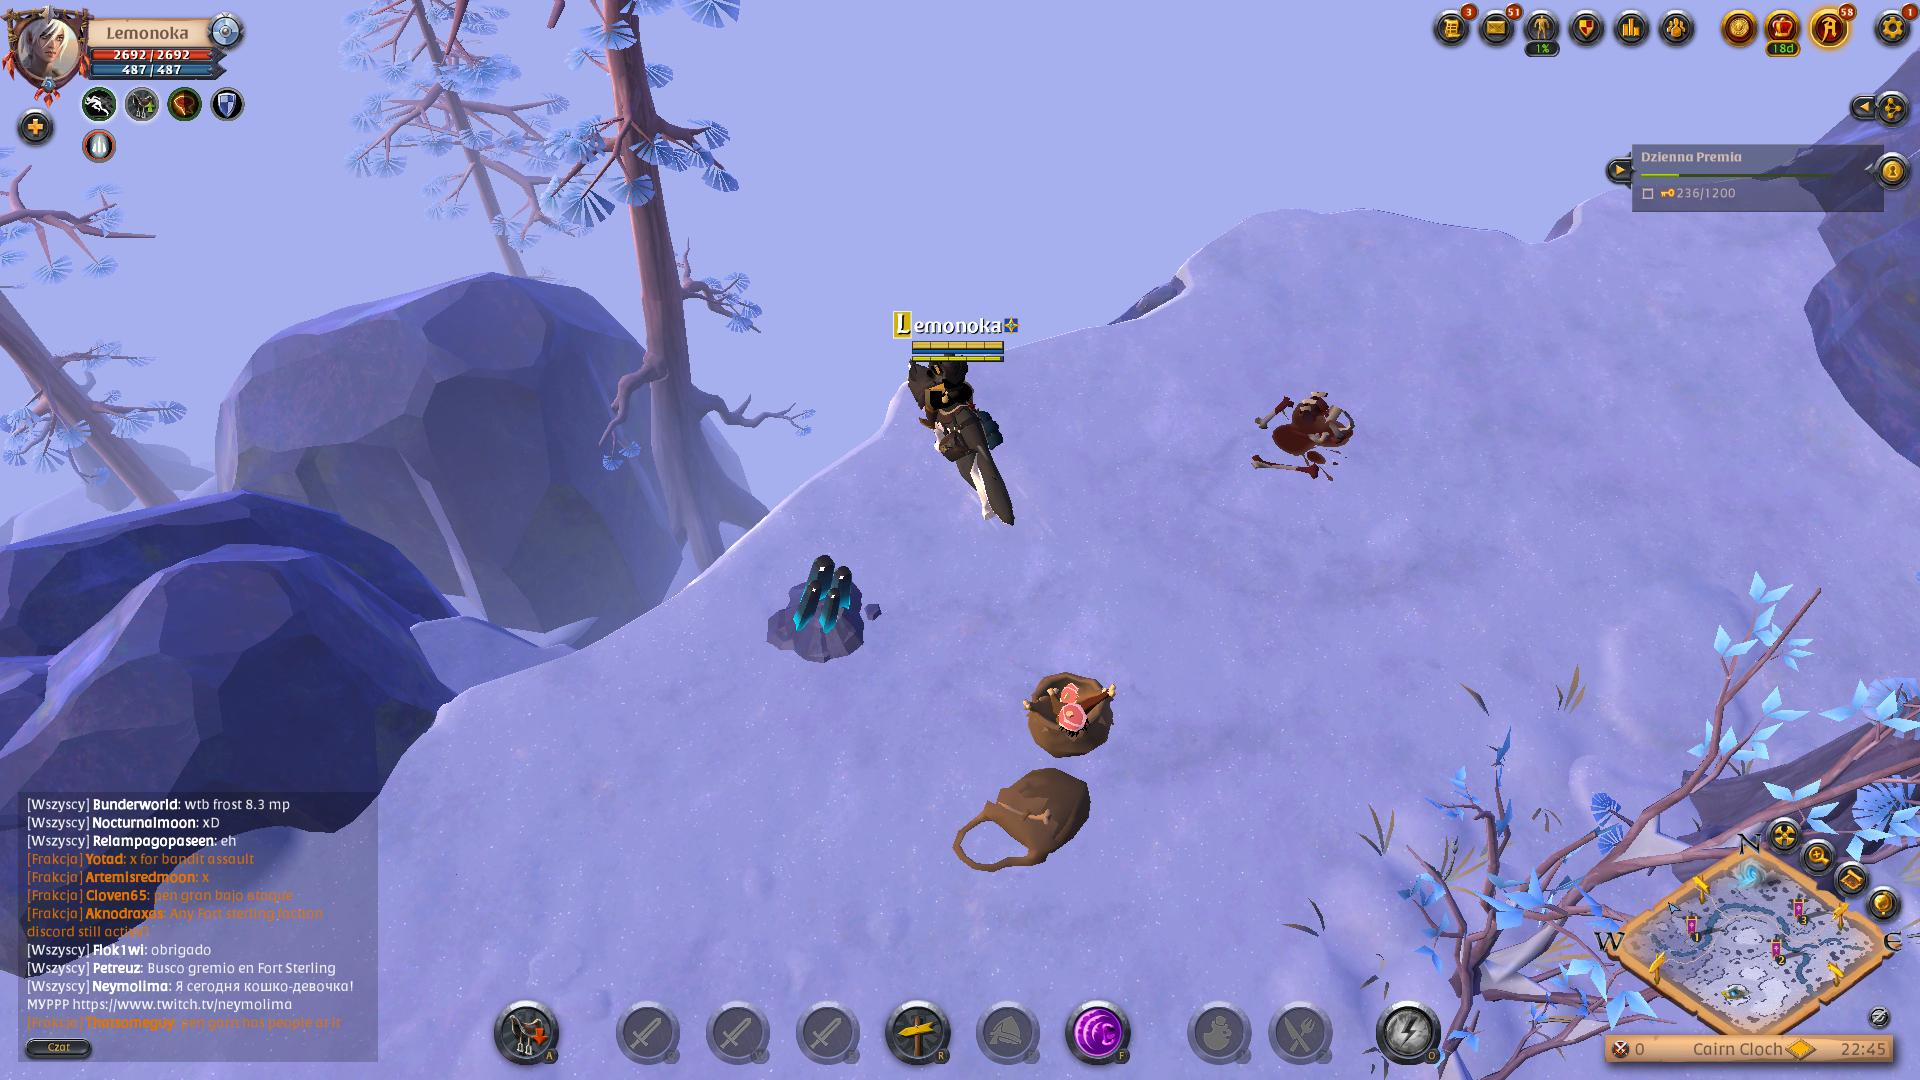ore tier 4: (774, 555, 877, 667)
